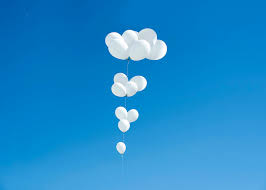Balloon: (129, 39, 150, 60), (108, 39, 128, 59), (151, 40, 167, 60), (111, 83, 126, 97), (125, 81, 137, 96), (117, 119, 130, 132), (115, 107, 127, 119), (116, 141, 126, 154), (128, 109, 138, 121)
